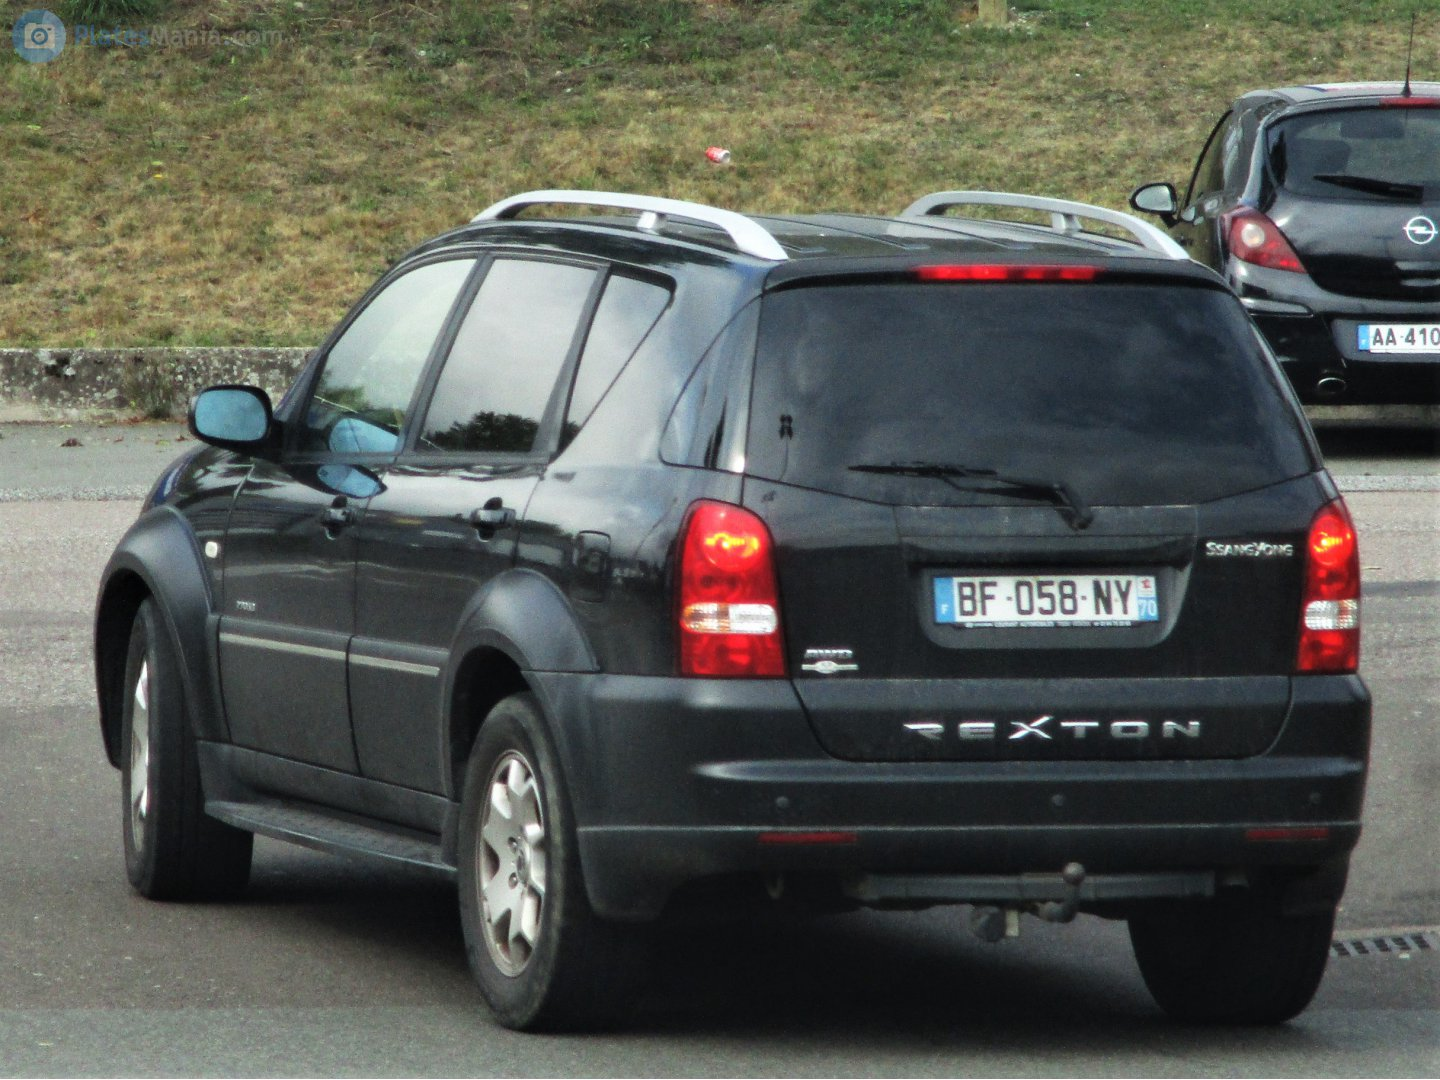licence plate: (923, 572, 1164, 630)
